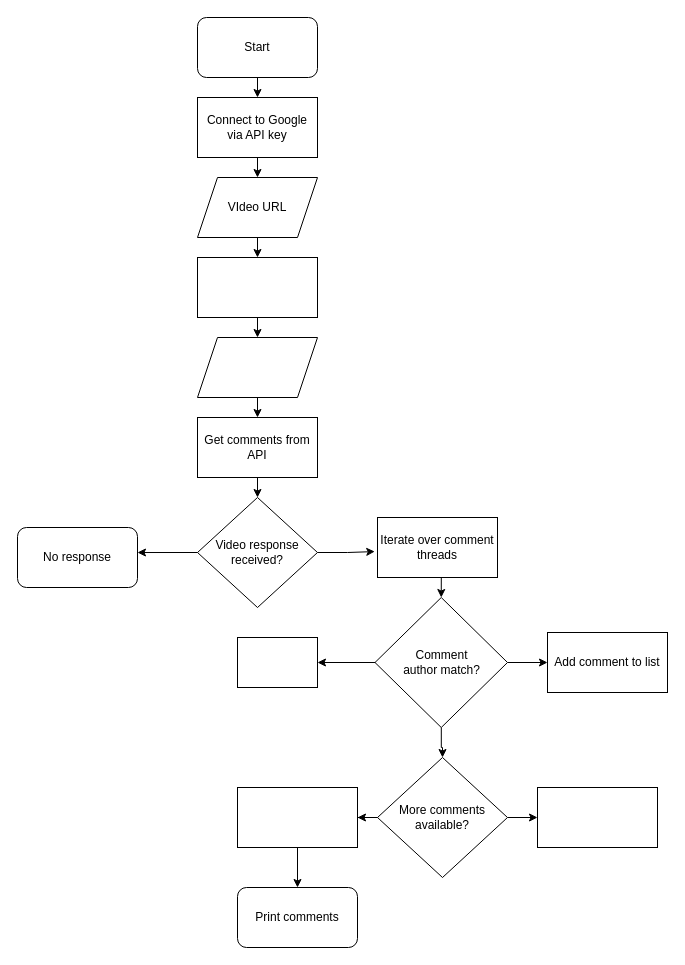
Image size: 685x965. Some labels were removed from this diagram. The shapes that lost their labels are listed below. From the top down, each one's centre as x and y in pixels, then its label:
At point (257, 287): "Extract Video ID from URL".
At point (257, 367): "Username".
At point (277, 662): "Skip comment".
At point (297, 817): "Continue to print comments".
At point (597, 817): "Recursive call for next page".
